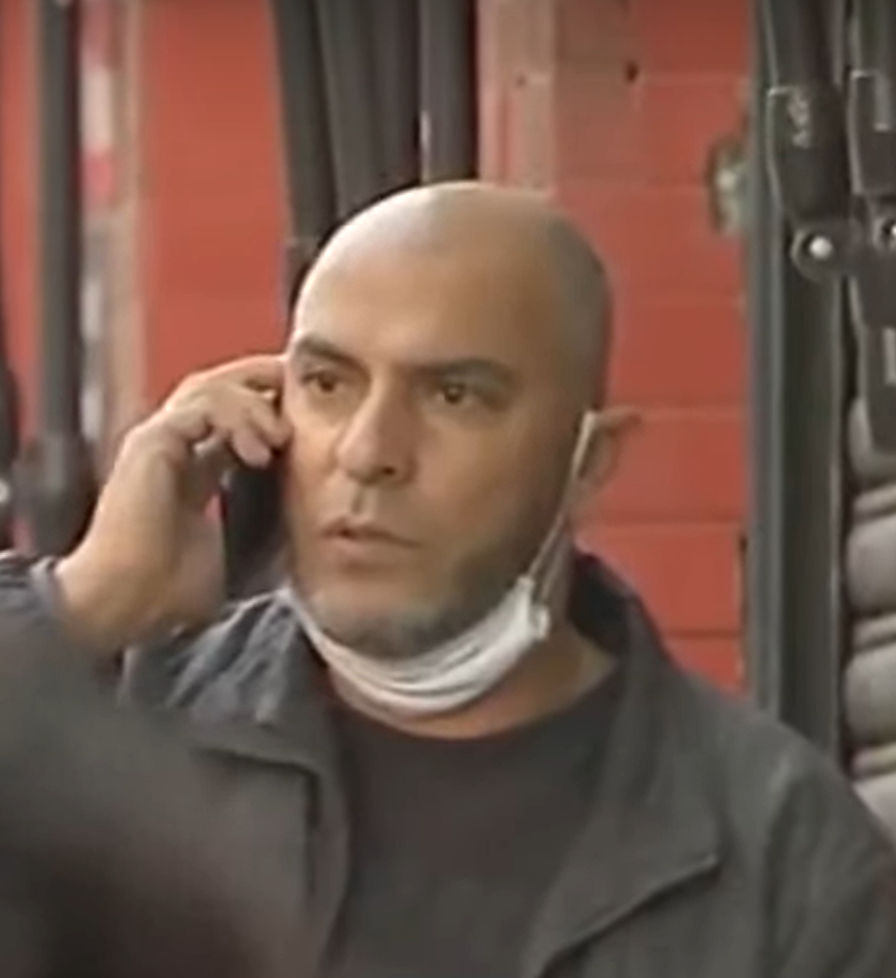mask_weared_incorrect: (250, 260, 639, 714)
